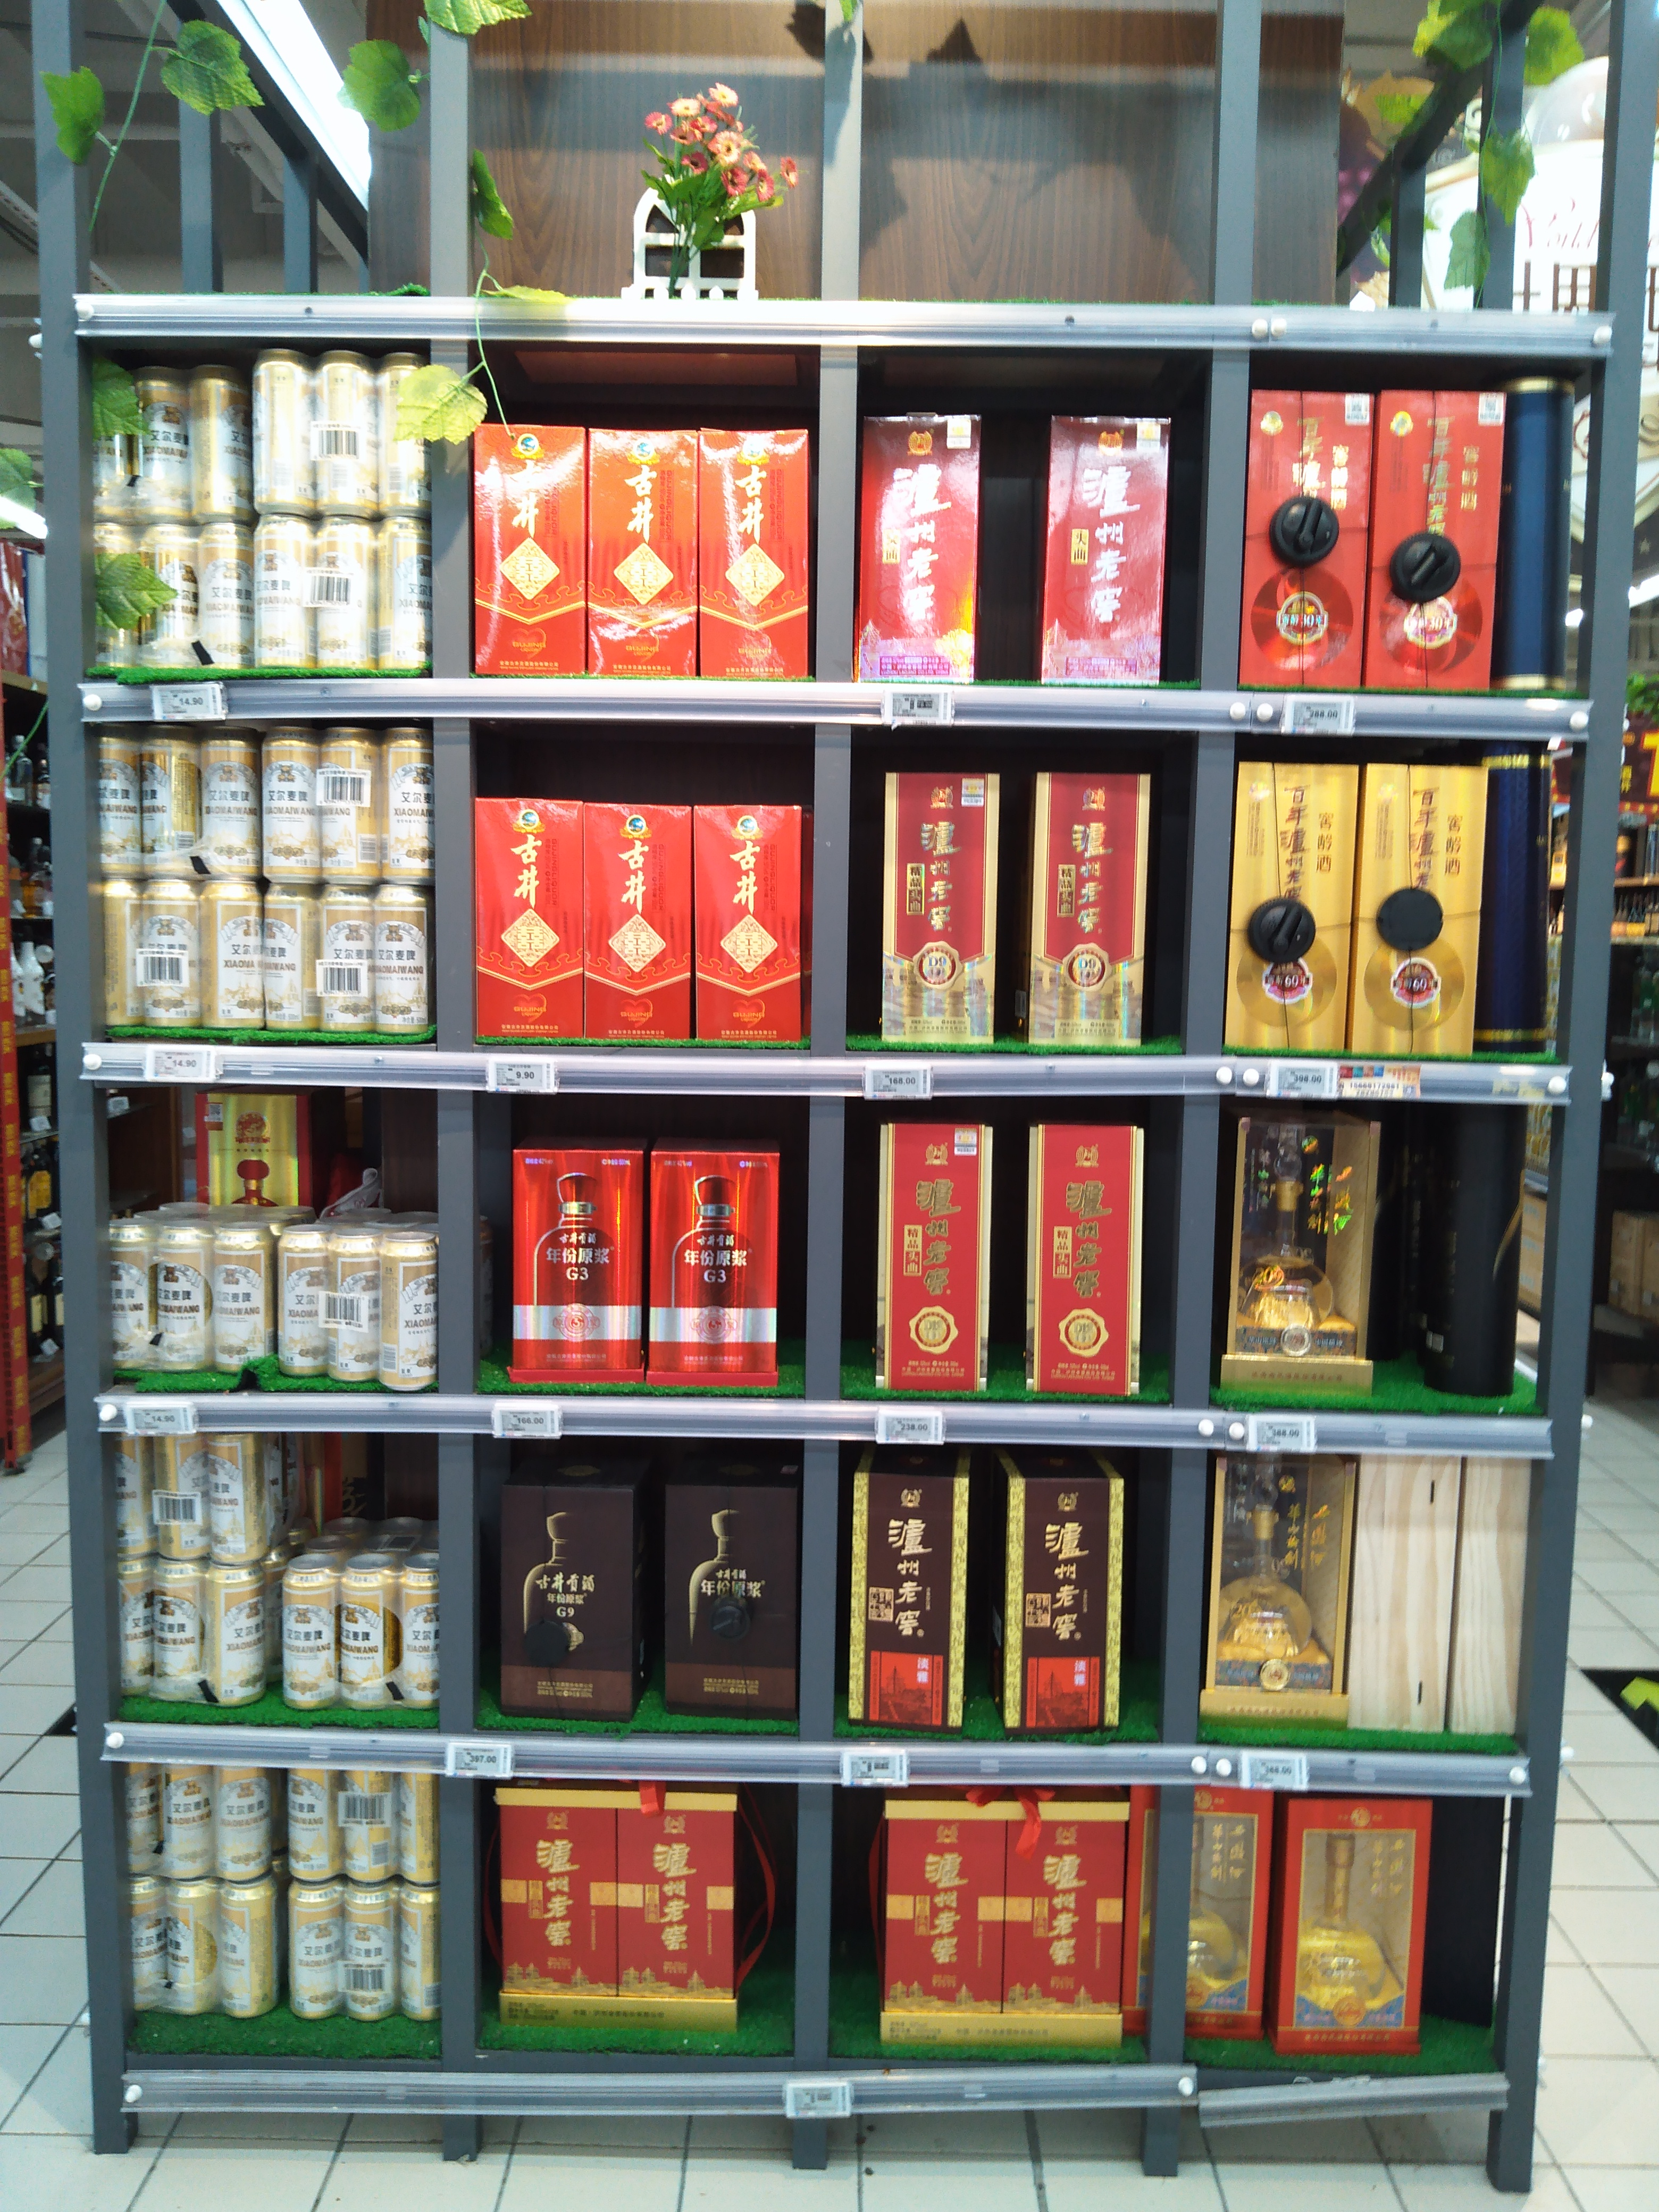box: (476, 420, 582, 672), (587, 421, 694, 674), (706, 420, 812, 672), (364, 718, 443, 892)
